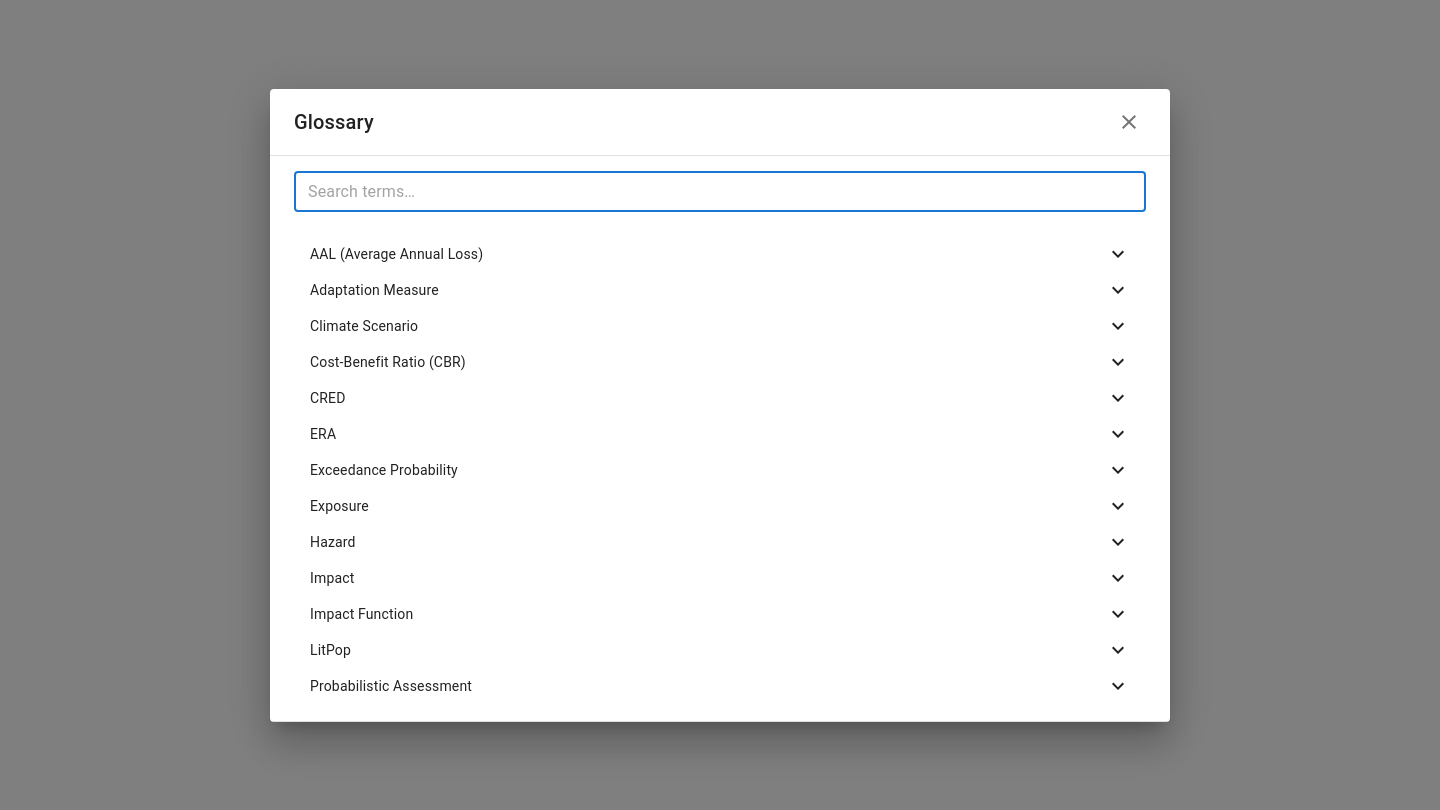
it: GlossaryDrawer › filters the term list as the user types
Type "return period" into the field with placeholder "Search terms…".
click(720, 192); type("return period")  # box top-left (294, 172), bottom-right (1146, 212)
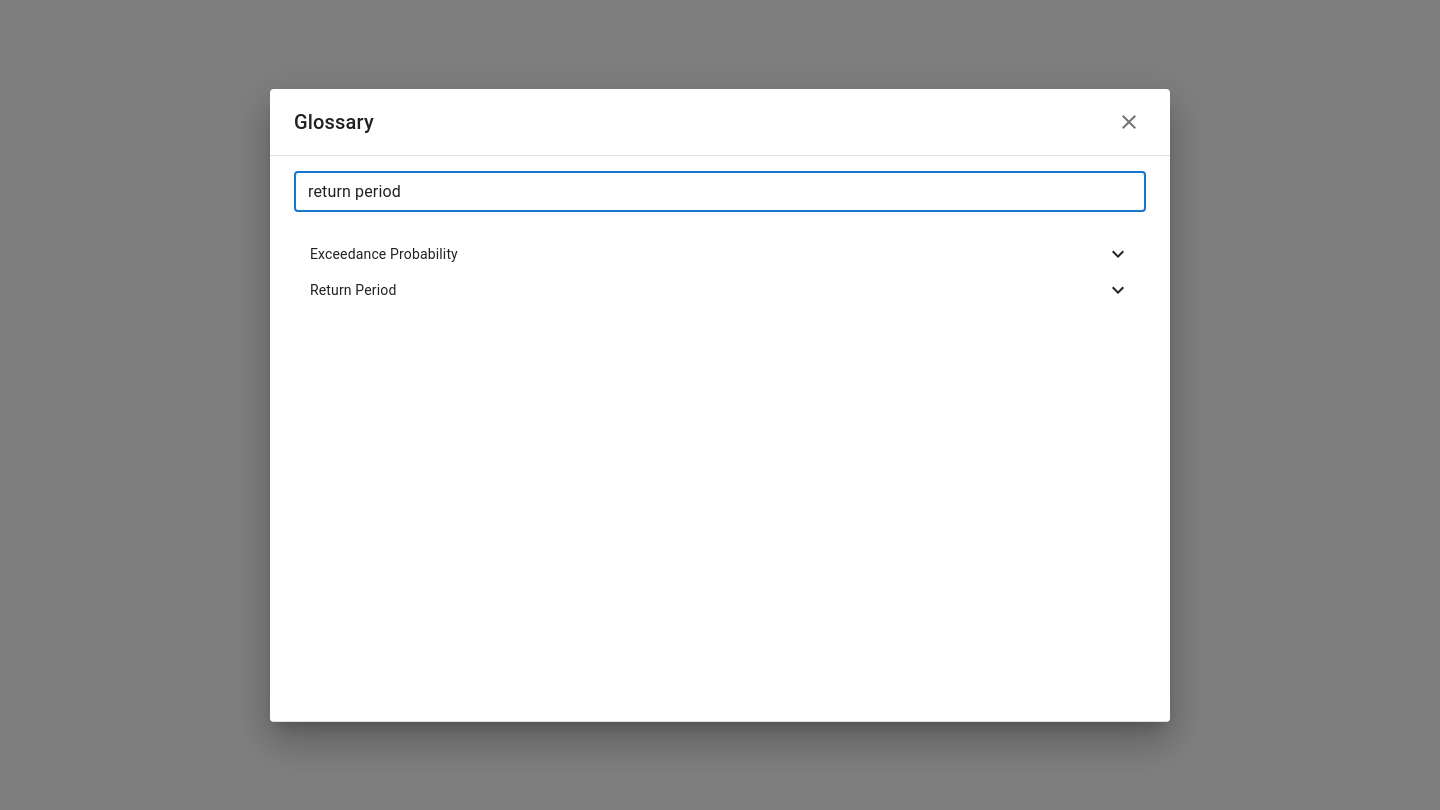
Expected: the text "Return Period" is shown, top-left (310, 282), bottom-right (396, 298)
Expected: the option "AAL (Average Annual Loss)" is gone
